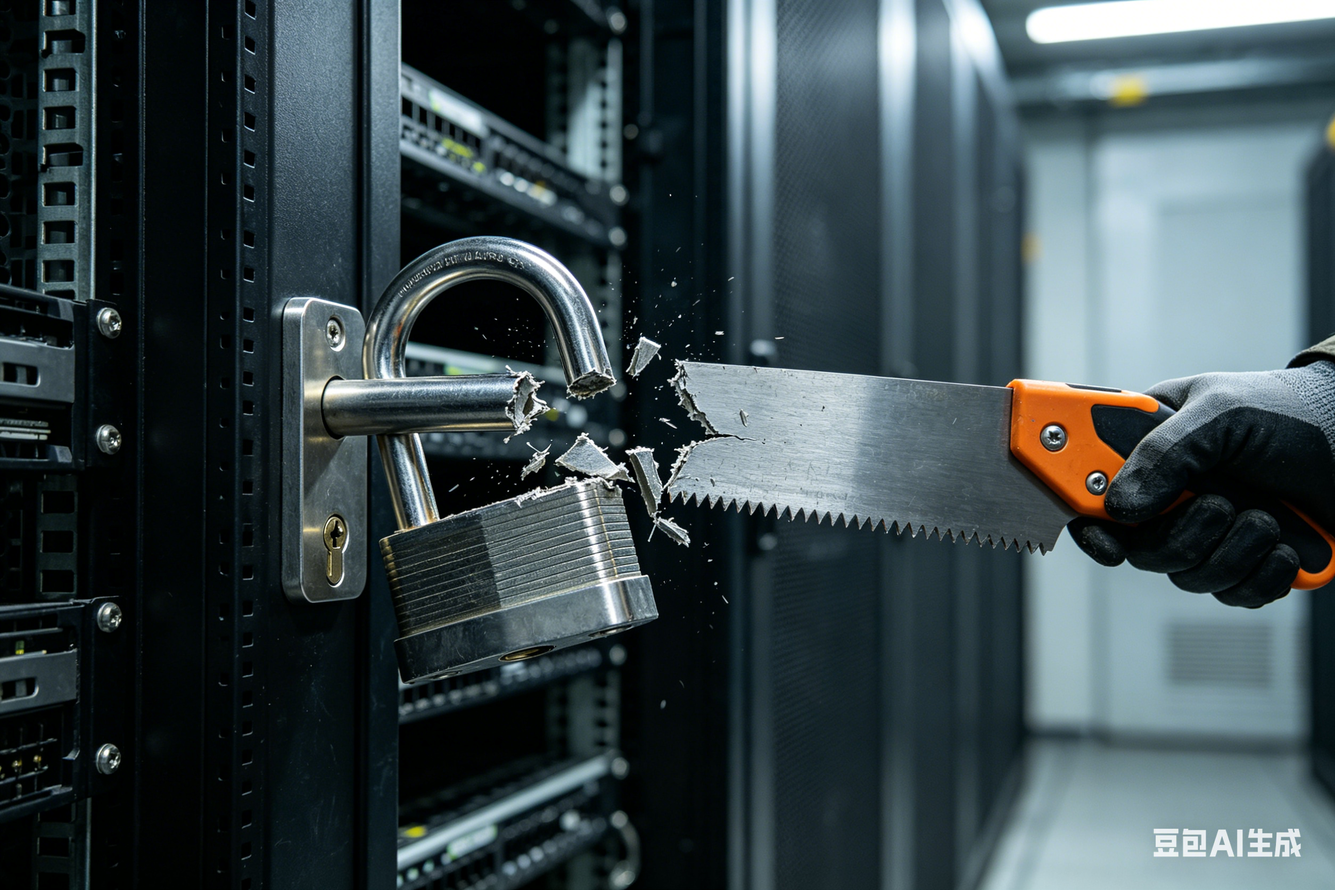BadLock: (441, 327, 750, 496)
